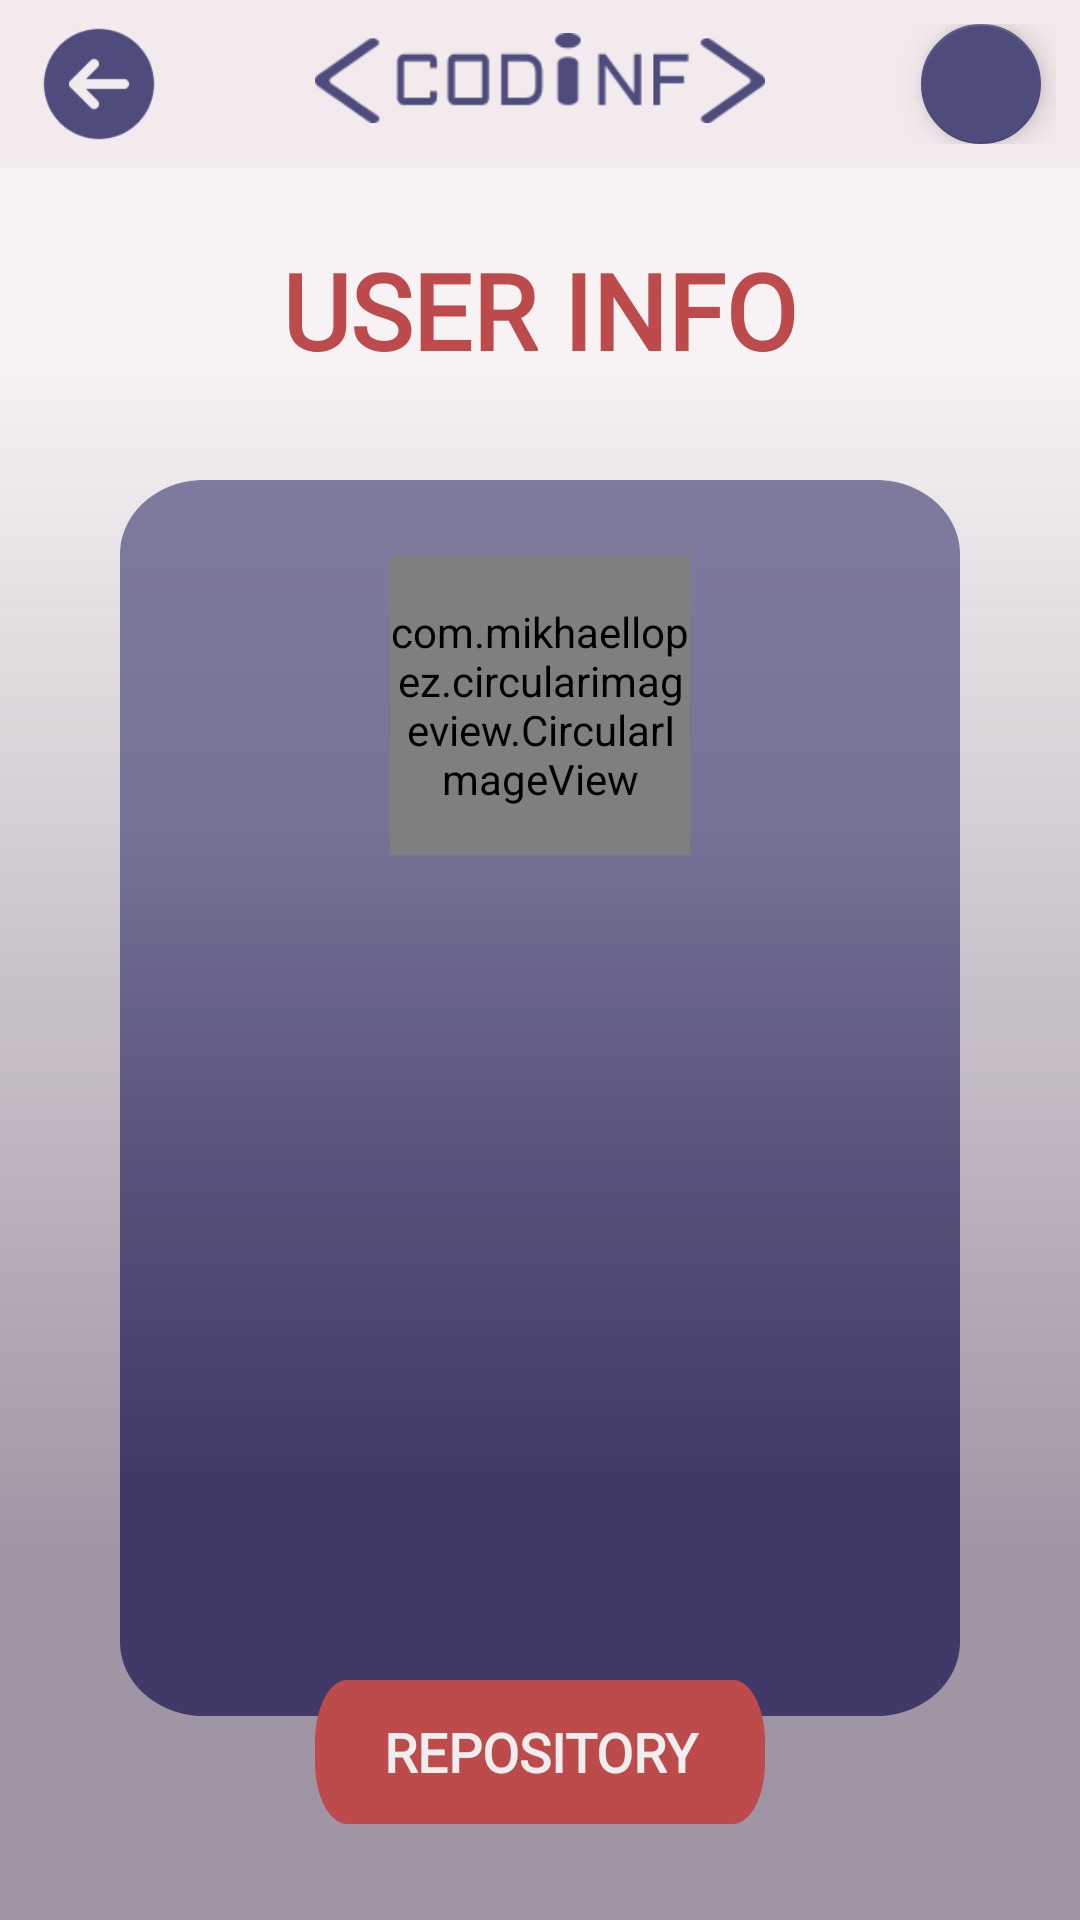

Named icons in this screenshot (1080 x 1920) and their bounding boxes, bbox=[x1, y1, x2, y2]:
back: bbox=[43, 28, 155, 140]
